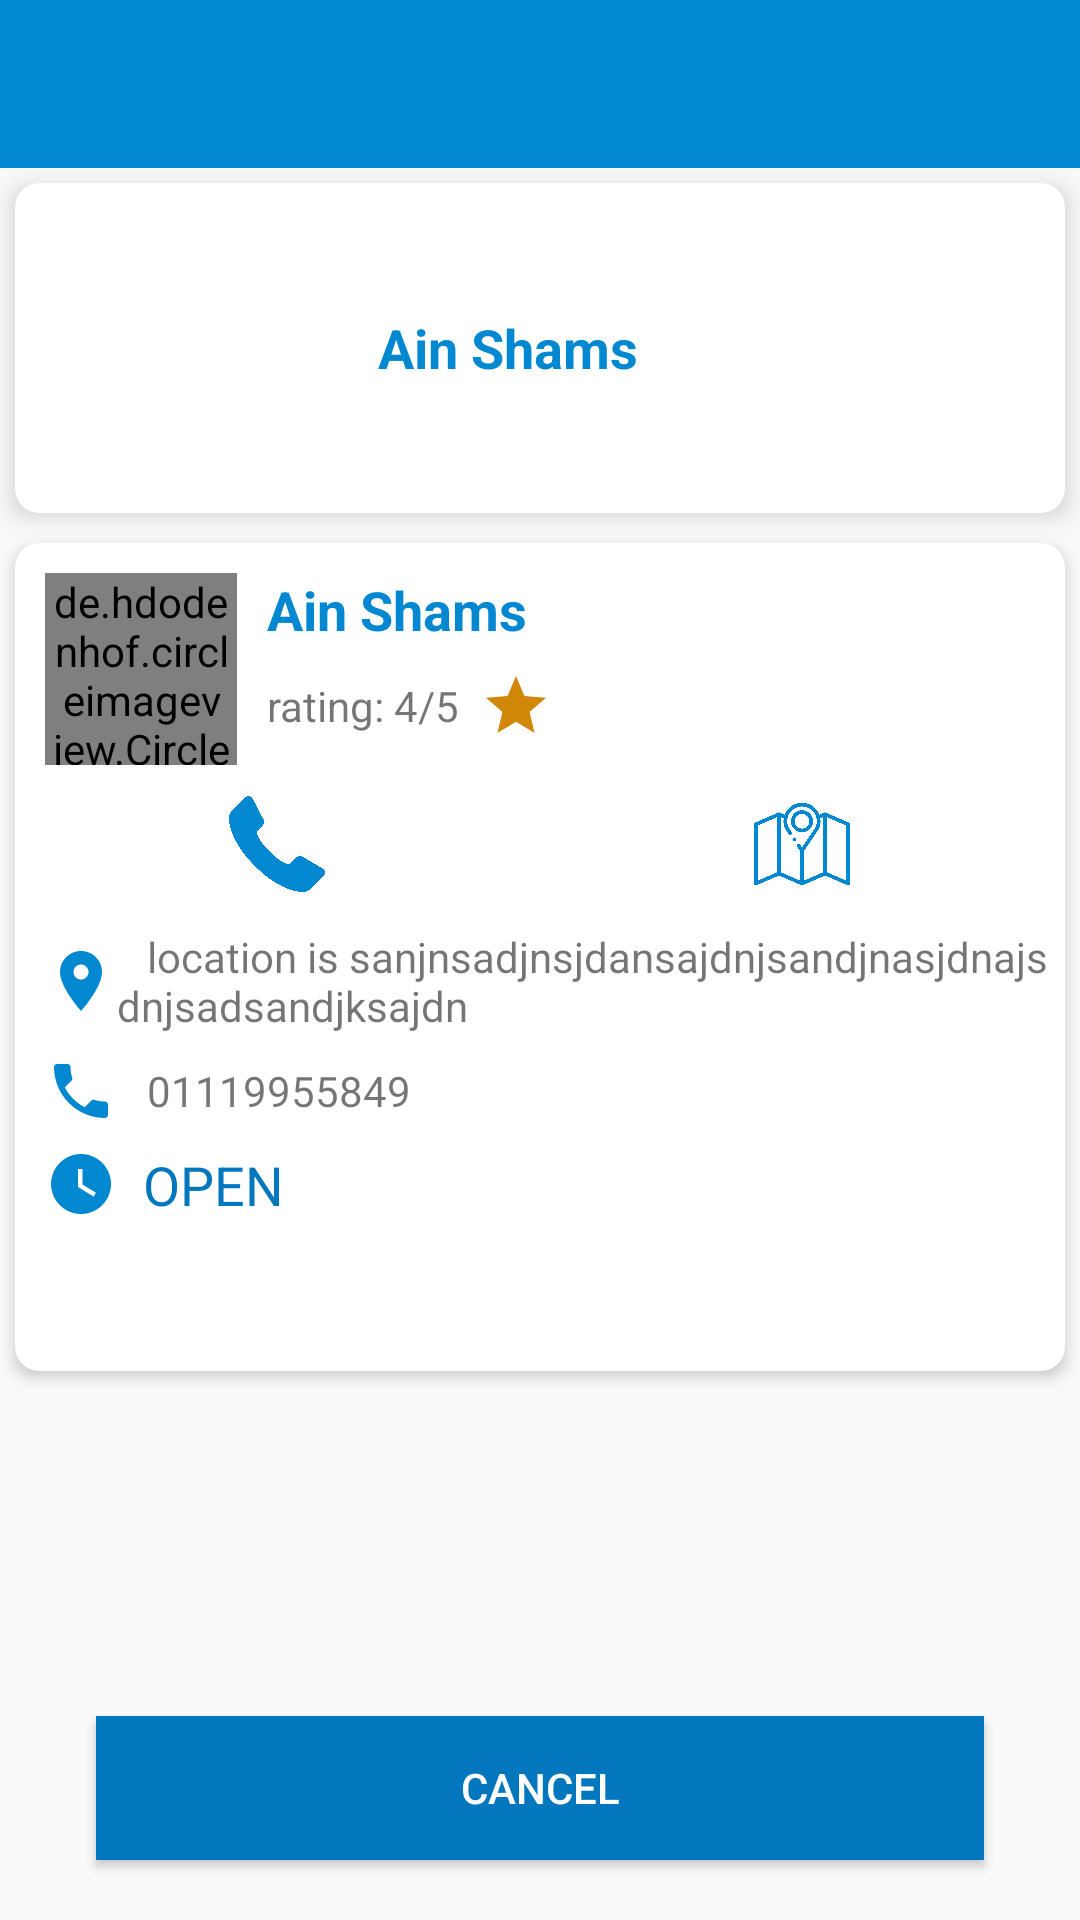

Screen size 1080px×1920px. Icon name, then its box in pixels as (x1, y1, x2, y2):
map: (754, 803, 850, 885)
phone: (229, 796, 325, 892)
